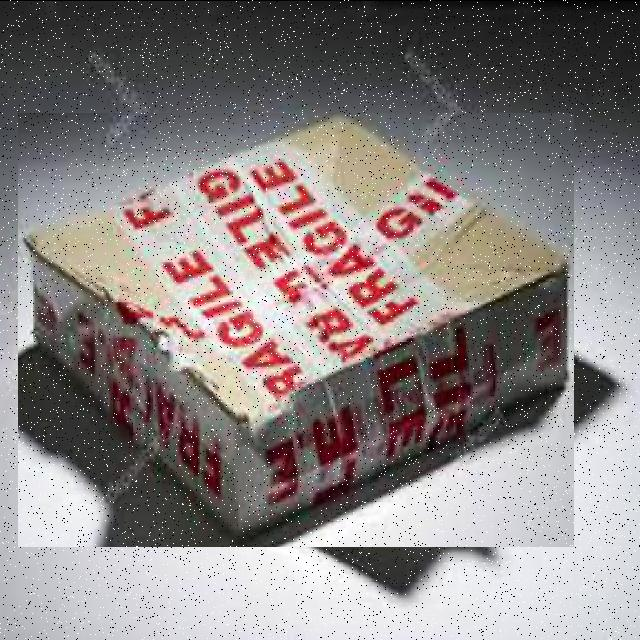defect: (18, 112, 574, 546)
